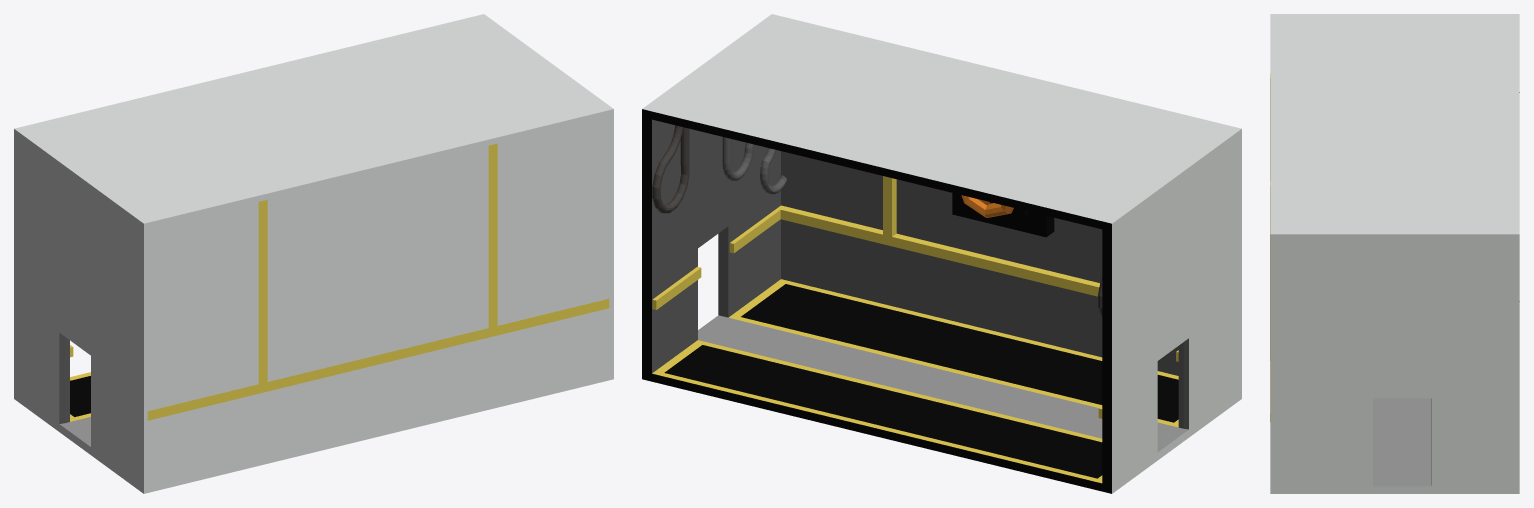
The model's file is RoomTemp.fbx.
The picture shows the model from 3 angles, left to right: view 1: azimuth 30°, elevation 25°; view 2: azimuth 150°, elevation 25°; view 3: azimuth 270°, elevation 25°; orthographic projection. The views are drawn at different scales.
Parts seen in each view (by area): view 1: BaseRoom, Cube.002, Cube, Cube.001; view 2: BaseRoom, Cube.002, Cube.007, Cylinder, Cylinder.001, Cube, Cube.003, Cube.004; view 3: BaseRoom.
Part boxes in pixels (x1,y1,x2,y2): BaseRoom: [14, 14, 613, 493]; Cube.002: [147, 299, 609, 420]; Cube: [488, 143, 497, 332]; Cube.001: [258, 199, 267, 387]; BaseRoom: [642, 14, 1241, 493]; Cube.002: [780, 205, 1099, 296]; Cube.007: [952, 193, 1054, 237]; Cylinder: [652, 125, 689, 213]; Cylinder.001: [722, 137, 786, 194]; Cube: [883, 176, 896, 236]; Cube.003: [729, 206, 783, 253]; Cube.004: [652, 266, 701, 309]; BaseRoom: [1270, 14, 1519, 493].
Size of the model in its own units: 1806 by 992 by 865.
